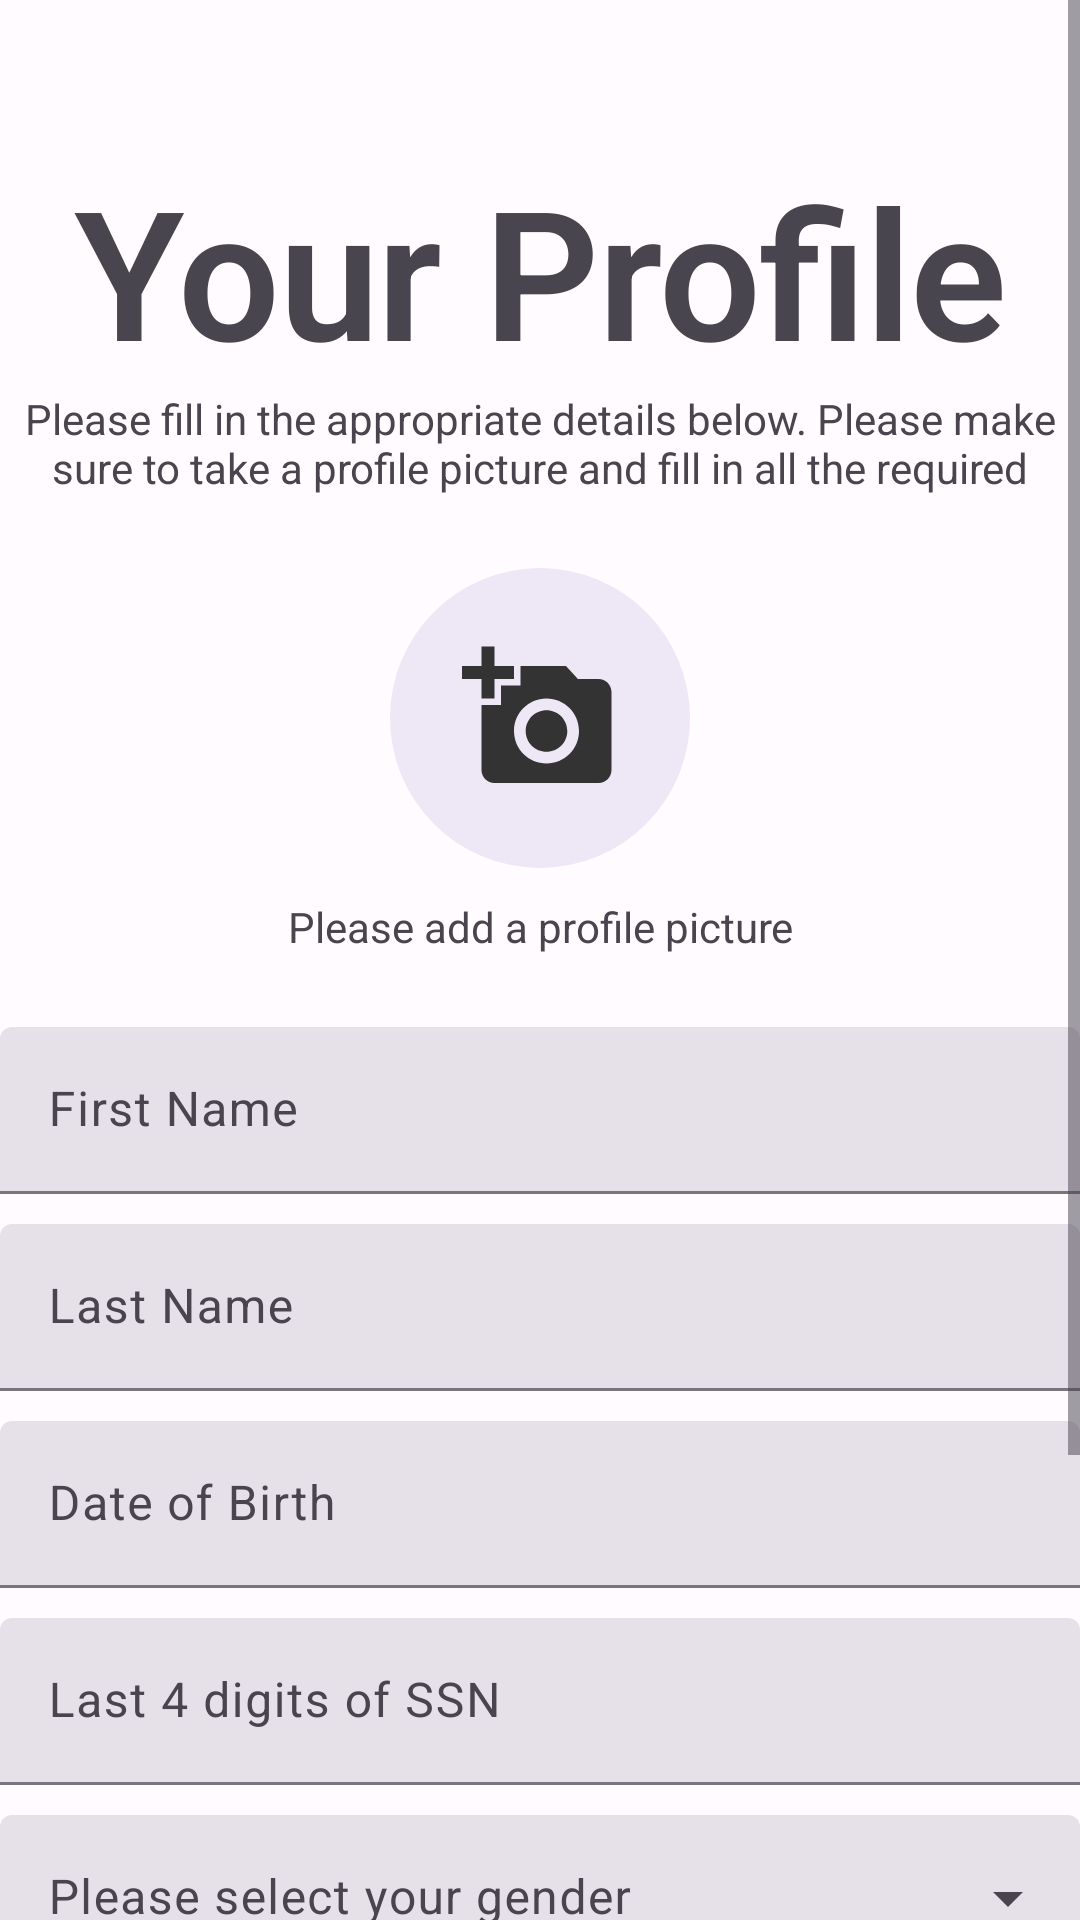

Icon bounding boxes for this 1080px x 1920px phone screenshot, format (x1, y1, x2, y2):
Change your profile picture: (462, 646, 612, 783)
